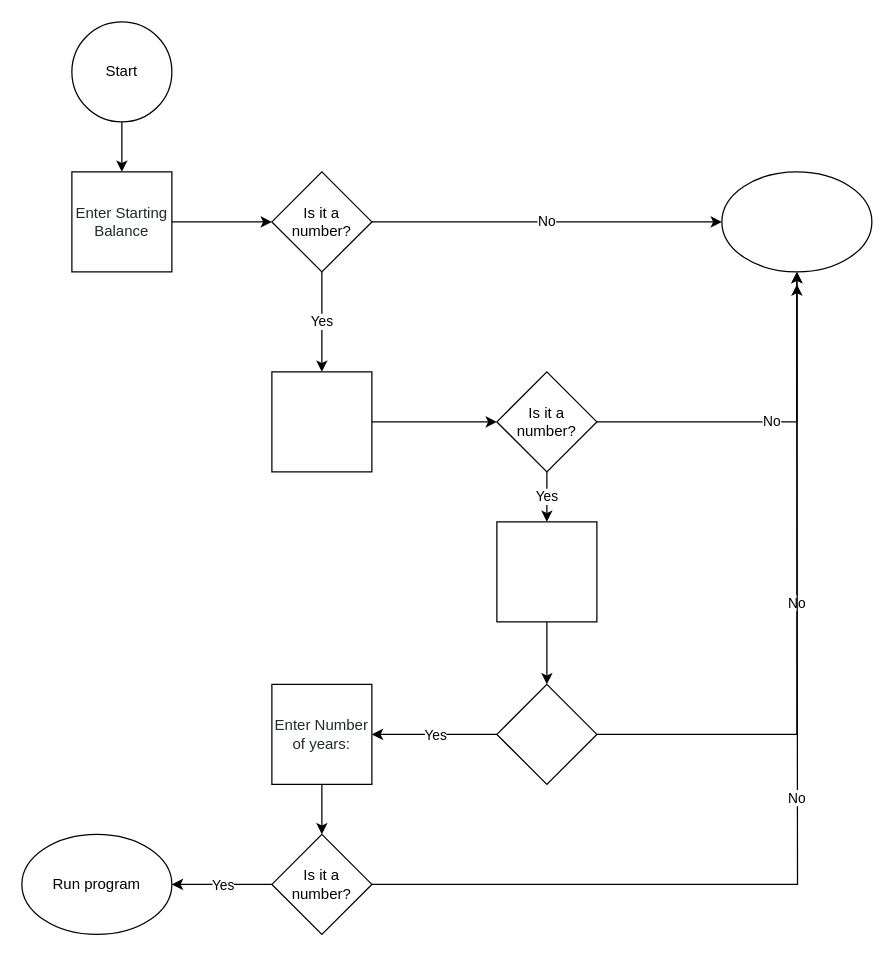
Some shapes in this 894 by 956 pixel diagram are drawn without their labels. The shapes that lost their labels are listed below. From the top down, each one's centre as x and y in pixels, then its label:
At (796,221): "End".
At (321,421): "Enter Yearly Contribution:".
At (546,571): "Enter Average Return On Investment as %:".
At (546,733): "Is it a %?".
